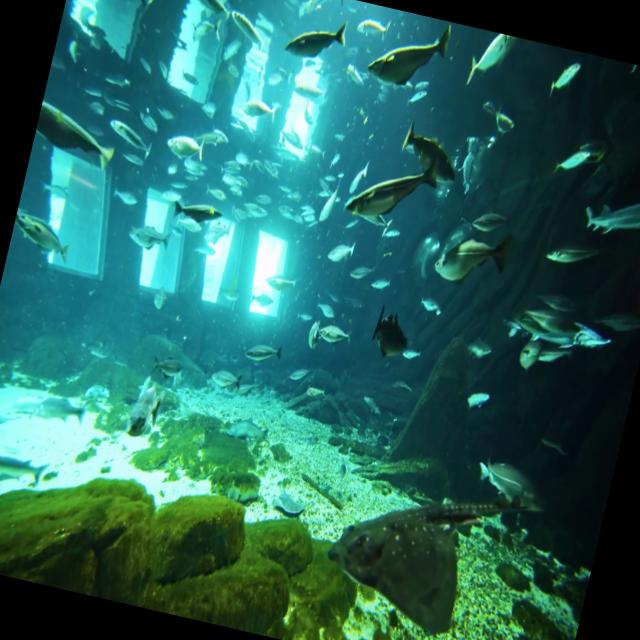fish: (27, 86, 146, 190), (354, 4, 464, 109), (329, 146, 439, 244), (428, 213, 530, 297), (389, 118, 487, 198), (500, 291, 620, 356), (464, 448, 556, 522), (276, 6, 354, 80), (8, 194, 83, 262), (573, 179, 640, 255), (456, 27, 522, 98), (212, 0, 281, 67), (540, 218, 607, 286), (160, 170, 230, 232), (358, 300, 419, 370), (149, 118, 209, 179), (242, 325, 292, 376), (114, 215, 172, 257), (544, 48, 588, 102), (97, 0, 161, 31), (318, 313, 358, 361), (183, 0, 238, 34), (550, 143, 590, 184), (456, 385, 498, 421), (459, 328, 494, 371)
